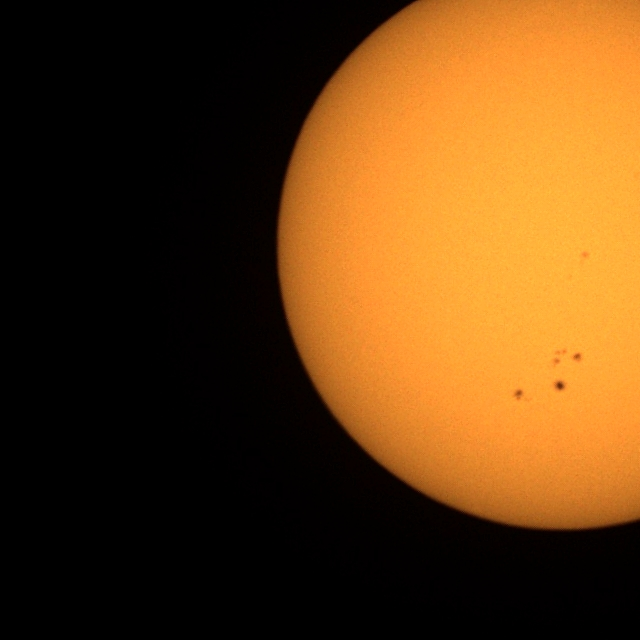sunspot: (552, 348, 580, 366), (513, 388, 528, 403), (553, 378, 567, 392), (572, 352, 582, 363), (580, 251, 590, 261)
